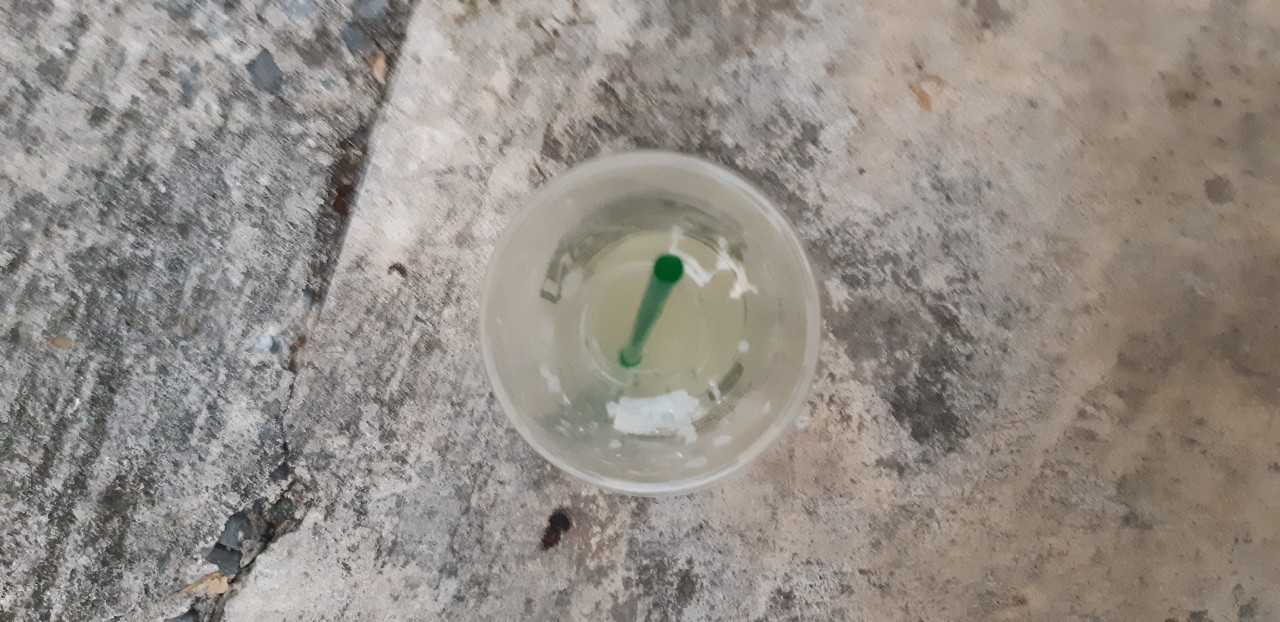PlasticCup: (477, 146, 823, 492)
